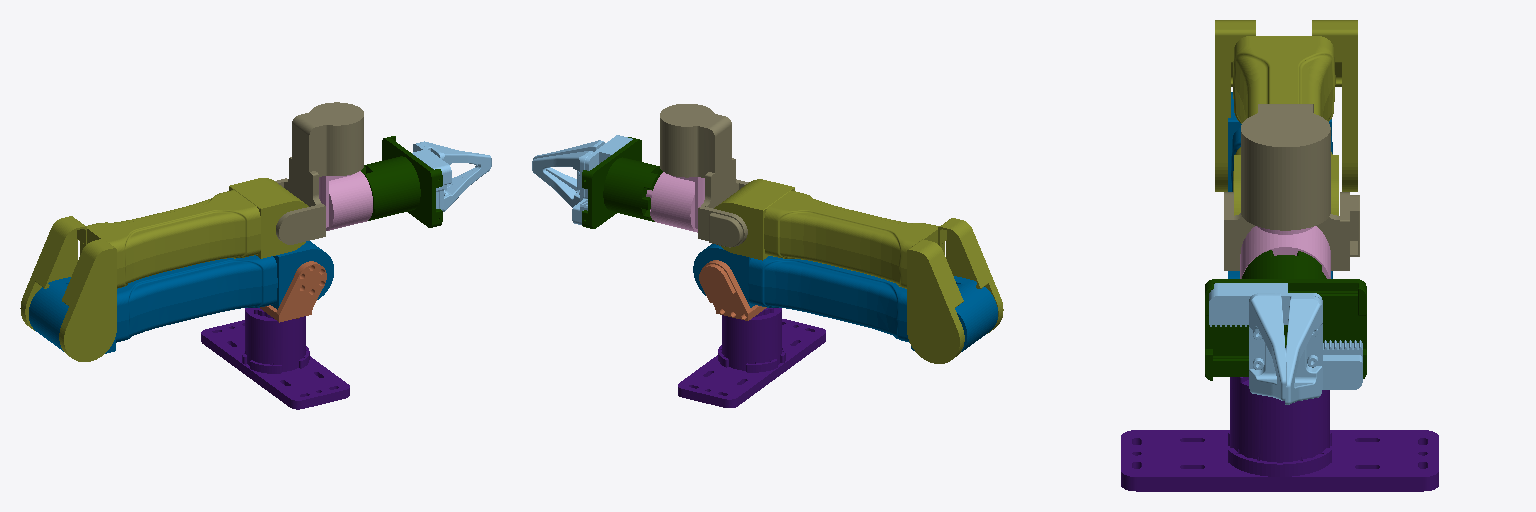
robot.urdf — output:
<?xml version="1.0" ?>
<!-- Generated using onshape-to-robot -->
<!-- Onshape document_id: 7d0d24259dc99910b3744602 -->
<robot name="output">
  <!-- Link base -->
  <link name="base">
    <inertial>
      <origin xyz="3.83001e-05 -2.40073e-05 0.0247678" rpy="0 0 0"/>
      <mass value="0.873654"/>
      <inertia ixx="0.00169404" ixy="2.44296e-07" ixz="-2.0408e-07" iyy="0.000678307" iyz="9.47541e-07" izz="0.00157059"/>
    </inertial>
    <!-- Part base -->
    <visual>
      <origin xyz="-0.0374966 -0.0464005 0.187501" rpy="1.15616e-19 1.5708 0"/>
      <geometry>
        <mesh filename="assets/base.stl"/>
      </geometry>
      <material name="base_material">
        <color rgba="0.317647 0.121569 0.498039 1"/>
      </material>
    </visual>
    <collision>
      <origin xyz="-0.0374966 -0.0464005 0.187501" rpy="1.15616e-19 1.5708 0"/>
      <geometry>
        <mesh filename="assets/base.stl"/>
      </geometry>
    </collision>
  </link>
  <!-- Link link1 -->
  <link name="link1">
    <inertial>
      <origin xyz="-0.00261782 0.00744082 0.0237251" rpy="0 0 0"/>
      <mass value="0.104154"/>
      <inertia ixx="4.91898e-05" ixy="3.10838e-06" ixz="5.78638e-06" iyy="0.000129831" iyz="-1.38611e-05" izz="0.000118108"/>
    </inertial>
    <!-- Part link1 -->
    <visual>
      <origin xyz="-0.0464 0.0374968 0.119501" rpy="1.5708 1.5708 0"/>
      <geometry>
        <mesh filename="assets/link1.stl"/>
      </geometry>
      <material name="link1_material">
        <color rgba="0.72549 0.45098 0.317647 1"/>
      </material>
    </visual>
    <collision>
      <origin xyz="-0.0464 0.0374968 0.119501" rpy="1.5708 1.5708 0"/>
      <geometry>
        <mesh filename="assets/link1.stl"/>
      </geometry>
    </collision>
  </link>
  <!-- Link link2 -->
  <link name="link2">
    <inertial>
      <origin xyz="0.129165 0.000134495 -0.0321253" rpy="0 0 0"/>
      <mass value="1.46908"/>
      <inertia ixx="0.00080009" ixy="-4.32984e-07" ixz="3.12562e-06" iyy="0.0146686" iyz="-1.11425e-08" izz="0.014599"/>
    </inertial>
    <!-- Part link2 -->
    <visual>
      <origin xyz="-0.0174977 -0.0740001 -0.07925" rpy="1.5708 -3.58252e-15 1.5708"/>
      <geometry>
        <mesh filename="assets/link2.stl"/>
      </geometry>
      <material name="link2_material">
        <color rgba="0 0.4 0.6 1"/>
      </material>
    </visual>
    <collision>
      <origin xyz="-0.0174977 -0.0740001 -0.07925" rpy="1.5708 -3.58252e-15 1.5708"/>
      <geometry>
        <mesh filename="assets/link2.stl"/>
      </geometry>
    </collision>
  </link>
  <!-- Link link3 -->
  <link name="link3">
    <inertial>
      <origin xyz="0.0556042 -0.135083 -0.0340514" rpy="0 0 0"/>
      <mass value="0.982553"/>
      <inertia ixx="0.00758945" ixy="0.00064069" ixz="-4.36075e-06" iyy="0.000937606" iyz="-1.09983e-05" izz="0.00763097"/>
    </inertial>
    <!-- Part link3 -->
    <visual>
      <origin xyz="0.0740003 -0.281499 -0.0813" rpy="1.5708 -4.54273e-15 -3.14159"/>
      <geometry>
        <mesh filename="assets/link3.stl"/>
      </geometry>
      <material name="link3_material">
        <color rgba="0.552941 0.580392 0.203922 1"/>
      </material>
    </visual>
    <collision>
      <origin xyz="0.0740003 -0.281499 -0.0813" rpy="1.5708 -4.54273e-15 -3.14159"/>
      <geometry>
        <mesh filename="assets/link3.stl"/>
      </geometry>
    </collision>
  </link>
  <!-- Link link4 -->
  <link name="link4">
    <inertial>
      <origin xyz="-0.0543529 0.057068 -0.0332231" rpy="0 0 0"/>
      <mass value="0.46678"/>
      <inertia ixx="0.000490786" ixy="0.000251119" ixz="2.1478e-05" iyy="0.000624073" iyz="-2.15661e-05" izz="0.000790045"/>
    </inertial>
    <!-- Part link4 -->
    <visual>
      <origin xyz="-0.0138003 0.0364989 -0.0787882" rpy="1.5708 -1.57772e-30 -1.26578e-30"/>
      <geometry>
        <mesh filename="assets/link4.stl"/>
      </geometry>
      <material name="link4_material">
        <color rgba="0.545098 0.52549 0.419608 1"/>
      </material>
    </visual>
    <collision>
      <origin xyz="-0.0138003 0.0364989 -0.0787882" rpy="1.5708 -1.57772e-30 -1.26578e-30"/>
      <geometry>
        <mesh filename="assets/link4.stl"/>
      </geometry>
    </collision>
  </link>
  <!-- Link link5 -->
  <link name="link5">
    <inertial>
      <origin xyz="-3.55003e-05 -0.00717397 0.0375847" rpy="0 0 0"/>
      <mass value="0.403307"/>
      <inertia ixx="0.000219791" ixy="-3.49657e-07" ixz="2.10549e-07" iyy="0.000181053" iyz="1.29173e-05" izz="0.000184284"/>
    </inertial>
    <!-- Part link5 -->
    <visual>
      <origin xyz="-0.0463995 0.0311519 0.0265" rpy="-1.5708 -1.5708 0"/>
      <geometry>
        <mesh filename="assets/link5.stl"/>
      </geometry>
      <material name="link5_material">
        <color rgba="0.827451 0.623529 0.784314 1"/>
      </material>
    </visual>
    <collision>
      <origin xyz="-0.0463995 0.0311519 0.0265" rpy="-1.5708 -1.5708 0"/>
      <geometry>
        <mesh filename="assets/link5.stl"/>
      </geometry>
    </collision>
  </link>
  <!-- Link gripper -->
  <link name="gripper">
    <inertial>
      <origin xyz="-3.57066e-05 0.000249371 -0.0293133" rpy="0 0 0"/>
      <mass value="0.553219"/>
      <inertia ixx="0.000409668" ixy="5.44942e-07" ixz="7.91266e-07" iyy="0.000324942" iyz="-4.83958e-06" izz="0.000369249"/>
    </inertial>
    <!-- Part gripper -->
    <visual>
      <origin xyz="-0.014 -0.0463995 0.0731" rpy="-2.40808e-14 1.46014e-15 -3.15544e-30"/>
      <geometry>
        <mesh filename="assets/gripper.stl"/>
      </geometry>
      <material name="gripper_material">
        <color rgba="0.109804 0.286275 0.0117647 1"/>
      </material>
    </visual>
    <collision>
      <origin xyz="-0.014 -0.0463995 0.0731" rpy="-2.40808e-14 1.46014e-15 -3.15544e-30"/>
      <geometry>
        <mesh filename="assets/gripper.stl"/>
      </geometry>
    </collision>
  </link>
  <!-- Link tip_left -->
  <link name="tip_left">
    <inertial>
      <origin xyz="-0.0224716 0.0143408 -0.0426253" rpy="0 0 0"/>
      <mass value="0.0710042"/>
      <inertia ixx="4.82351e-05" ixy="1.03366e-05" ixz="-1.13904e-05" iyy="5.1953e-05" iyz="1.10487e-05" izz="5.06981e-05"/>
    </inertial>
    <!-- Part tip_left -->
    <visual>
      <origin xyz="0.129783 0.00999321 -0.0914614" rpy="1.5708 -6.86541e-15 1.5708"/>
      <geometry>
        <mesh filename="assets/tip_left.stl"/>
      </geometry>
      <material name="tip_left_material">
        <color rgba="0.596078 0.788235 0.921569 1"/>
      </material>
    </visual>
    <collision>
      <origin xyz="0.129783 0.00999321 -0.0914614" rpy="1.5708 -6.86541e-15 1.5708"/>
      <geometry>
        <mesh filename="assets/tip_left.stl"/>
      </geometry>
    </collision>
  </link>
  <!-- Joint from gripper to tip_left -->
  <joint name="joint7" type="prismatic">
    <origin xyz="-0.0226681 0.0450619 -0.0545599" rpy="-1.5708 -1.5708 0"/>
    <parent link="gripper"/>
    <child link="tip_left"/>
    <axis xyz="0 0 1"/>
    <limit effort="10" velocity="10" lower="-0.0475" upper="0"/>
  </joint>
  <!-- Link tip_right -->
  <link name="tip_right">
    <inertial>
      <origin xyz="-0.0143408 -0.0224716 -0.0426253" rpy="0 0 0"/>
      <mass value="0.0710042"/>
      <inertia ixx="5.1953e-05" ixy="-1.03366e-05" ixz="-1.10487e-05" iyy="4.82351e-05" iyz="-1.13904e-05" izz="5.06981e-05"/>
    </inertial>
    <!-- Part tip_right -->
    <visual>
      <origin xyz="-0.0379932 0.129783 0.00133753" rpy="-1.5708 6.86541e-15 -1.39661e-30"/>
      <geometry>
        <mesh filename="assets/tip_right.stl"/>
      </geometry>
      <material name="tip_right_material">
        <color rgba="0.596078 0.788235 0.921569 1"/>
      </material>
    </visual>
    <collision>
      <origin xyz="-0.0379932 0.129783 0.00133753" rpy="-1.5708 6.86541e-15 -1.39661e-30"/>
      <geometry>
        <mesh filename="assets/tip_right.stl"/>
      </geometry>
    </collision>
  </link>
  <!-- Joint from gripper to tip_right -->
  <joint name="joint8" type="prismatic">
    <origin xyz="0.0226681 -0.0450619 -0.0545599" rpy="1.5708 3.37031e-15 -1.44357e-14"/>
    <parent link="gripper"/>
    <child link="tip_right"/>
    <axis xyz="0 0 1"/>
    <limit effort="10" velocity="10" lower="-0.0475" upper="0"/>
  </joint>
  <!-- Joint from link5 to gripper -->
  <joint name="joint6" type="revolute">
    <origin xyz="2.39858e-07 -0.0419481 0.0404996" rpy="-1.5708 -1.5708 0"/>
    <parent link="link5"/>
    <child link="gripper"/>
    <axis xyz="0 0 1"/>
    <limit effort="10" velocity="10" lower="-2.0944" upper="2.0944"/>
  </joint>
  <!-- Joint from link4 to link5 -->
  <joint name="joint5" type="revolute">
    <origin xyz="-0.0403003 0.0703851 -0.0323887" rpy="-3.14159 -1.5708 0"/>
    <parent link="link4"/>
    <child link="link5"/>
    <axis xyz="0 0 1"/>
    <limit effort="10" velocity="10" lower="-1.5708" upper="1.5708"/>
  </joint>
  <!-- Joint from link3 to link4 -->
  <joint name="joint4" type="revolute">
    <origin xyz="0.0600003 -0.244999 -0.00205" rpy="-1.4667e-14 -1.70957e-14 -3.14159"/>
    <parent link="link3"/>
    <child link="link4"/>
    <axis xyz="0 0 1"/>
    <limit effort="10" velocity="10" lower="-1.5708" upper="1.5708"/>
  </joint>
  <!-- Joint from link2 to link3 -->
  <joint name="joint3" type="revolute">
    <origin xyz="0.264 4.08431e-07 -0.06375" rpy="-3.14159 6.51959e-15 1.5708"/>
    <parent link="link2"/>
    <child link="link3"/>
    <axis xyz="0 0 1"/>
    <limit effort="10" velocity="10" lower="0" upper="3.66519"/>
  </joint>
  <!-- Joint from link1 to link2 -->
  <joint name="joint2" type="revolute">
    <origin xyz="-0.0329 0.02 0.0455" rpy="1.5708 -5.36072e-16 -1.5708"/>
    <parent link="link1"/>
    <child link="link2"/>
    <axis xyz="0 0 1"/>
    <limit effort="10" velocity="10" lower="0" upper="3.14159"/>
  </joint>
  <!-- Joint from base to link1 -->
  <joint name="joint1" type="revolute">
    <origin xyz="-1.249e-16 -1.38692e-16 0.067" rpy="4.43651e-16 -1.15412e-16 -1.5708"/>
    <parent link="base"/>
    <child link="link1"/>
    <axis xyz="0 0 1"/>
    <limit effort="10" velocity="10" lower="-2.61799" upper="3.05433"/>
  </joint>
</robot>

--- What the picture shows (computed from the rendered views, not written in the file) ---
3 views of the same robot in one strip: view 1: azimuth 30°, elevation 25°; view 2: azimuth 150°, elevation 25°; view 3: azimuth 270°, elevation 25° (orthographic).
Model output with 9 links and 8 joints (6 revolute, 2 prismatic), rooted at base, posed all joints at 0.
Visible links, largest first — view 1: link3, link2, base, link4, gripper, link5, link1, tip_right, tip_left; view 2: link3, link2, base, link4, gripper, link5, tip_left, link1, tip_right; view 3: base, link3, link4, gripper, tip_left, tip_right, link5, link2.
Boxes of the visible links, x1,y1,x2,y2 form: link3: [20, 178, 308, 361]; link2: [29, 241, 333, 353]; base: [201, 308, 349, 409]; link4: [275, 102, 363, 244]; gripper: [361, 136, 442, 227]; link5: [319, 171, 372, 230]; link1: [260, 261, 326, 322]; tip_right: [431, 147, 491, 211]; tip_left: [412, 141, 489, 191]; link3: [714, 179, 1003, 363]; link2: [693, 244, 997, 351]; base: [678, 308, 825, 407]; link4: [660, 104, 748, 247]; gripper: [582, 137, 662, 228]; link5: [646, 172, 704, 232]; tip_left: [532, 135, 632, 207]; link1: [699, 260, 766, 320]; tip_right: [533, 140, 604, 224]; base: [1121, 377, 1438, 491]; link3: [1215, 20, 1357, 215]; link4: [1224, 104, 1359, 270]; gripper: [1205, 250, 1366, 380]; tip_left: [1209, 283, 1322, 404]; tip_right: [1249, 293, 1362, 400]; link5: [1240, 226, 1330, 278]; link2: [1228, 92, 1332, 278].
Bounding box of the posed robot: 0.5335 × 0.2 × 0.2705 m (x, y, z).
9 mesh visuals loaded from 9 distinct referenced files (9 binary STL).